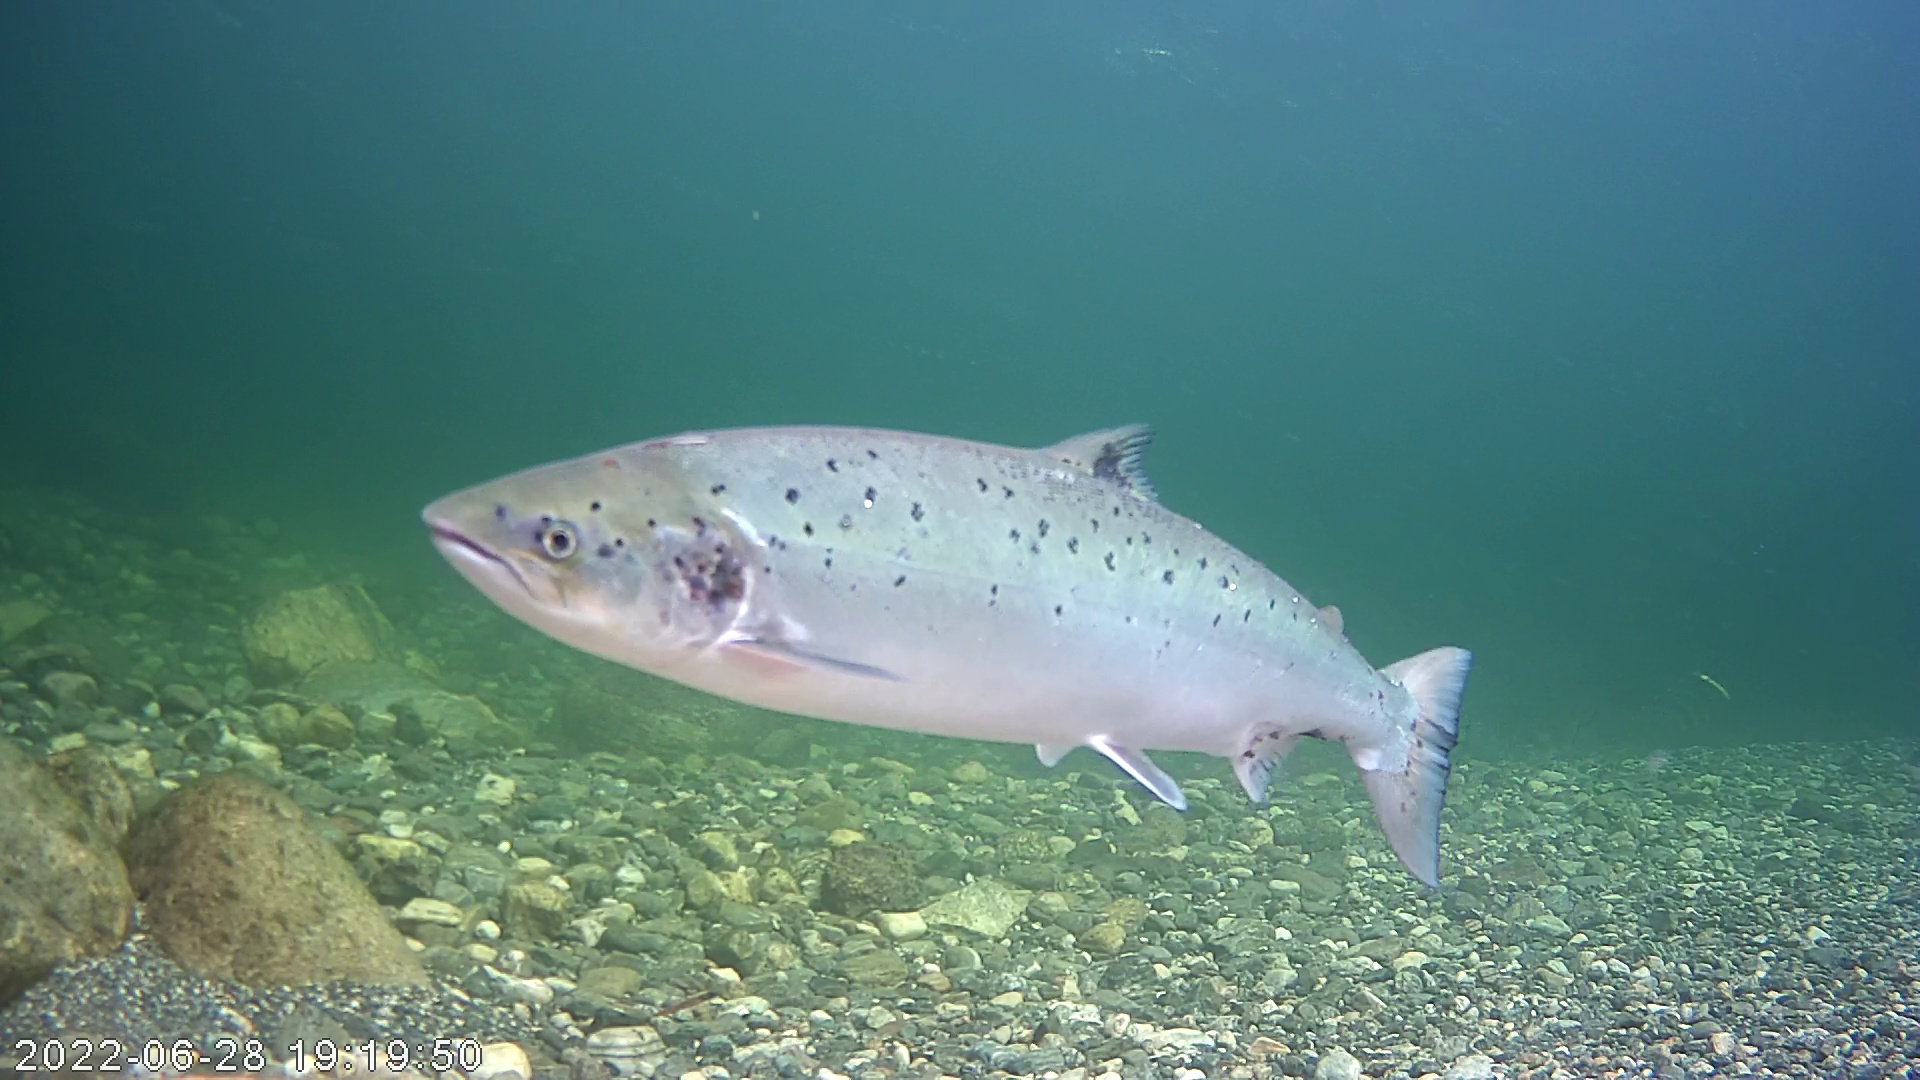salmon: (402, 280, 1484, 881)
